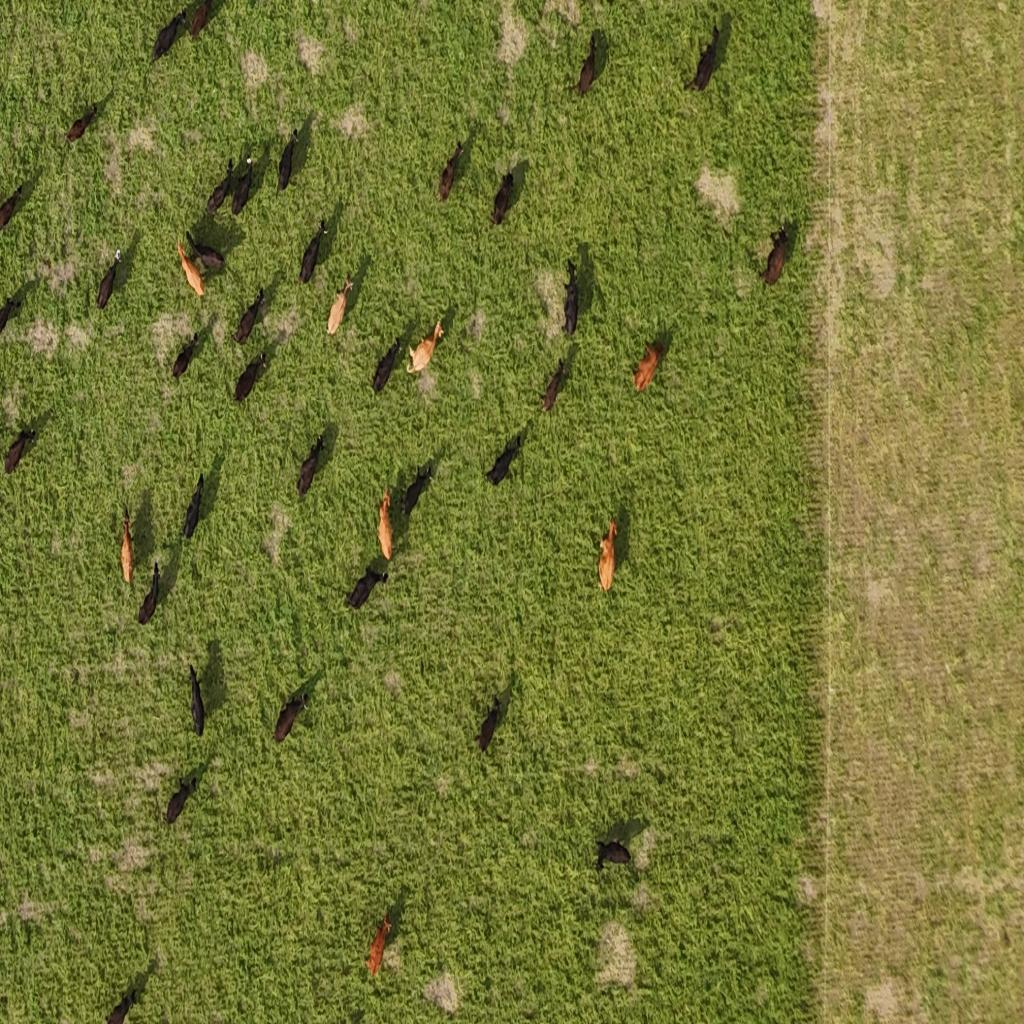cow: (591, 516, 632, 604), (192, 635, 228, 728), (290, 428, 334, 502), (402, 314, 448, 382), (686, 16, 726, 92), (106, 510, 144, 590), (371, 325, 404, 403), (298, 212, 331, 290), (326, 269, 359, 345), (554, 258, 586, 336), (346, 562, 390, 617), (183, 226, 232, 275), (160, 770, 202, 827), (759, 220, 794, 288), (185, 656, 213, 738), (0, 416, 37, 478), (168, 250, 210, 304), (152, 8, 191, 66), (139, 553, 169, 627), (474, 692, 507, 759), (634, 338, 668, 401), (577, 28, 608, 97), (92, 243, 122, 314), (236, 347, 274, 403), (58, 102, 106, 146), (436, 138, 467, 206), (276, 680, 310, 742), (484, 438, 522, 492), (236, 279, 268, 343), (594, 833, 634, 884), (541, 350, 568, 424), (203, 154, 235, 216), (276, 126, 302, 199), (491, 165, 520, 226), (367, 914, 390, 990), (183, 473, 208, 542), (376, 491, 398, 569), (402, 460, 432, 516), (232, 153, 257, 219), (175, 325, 205, 376), (0, 284, 20, 354), (102, 988, 138, 1024), (0, 177, 29, 221), (192, 0, 218, 46)
